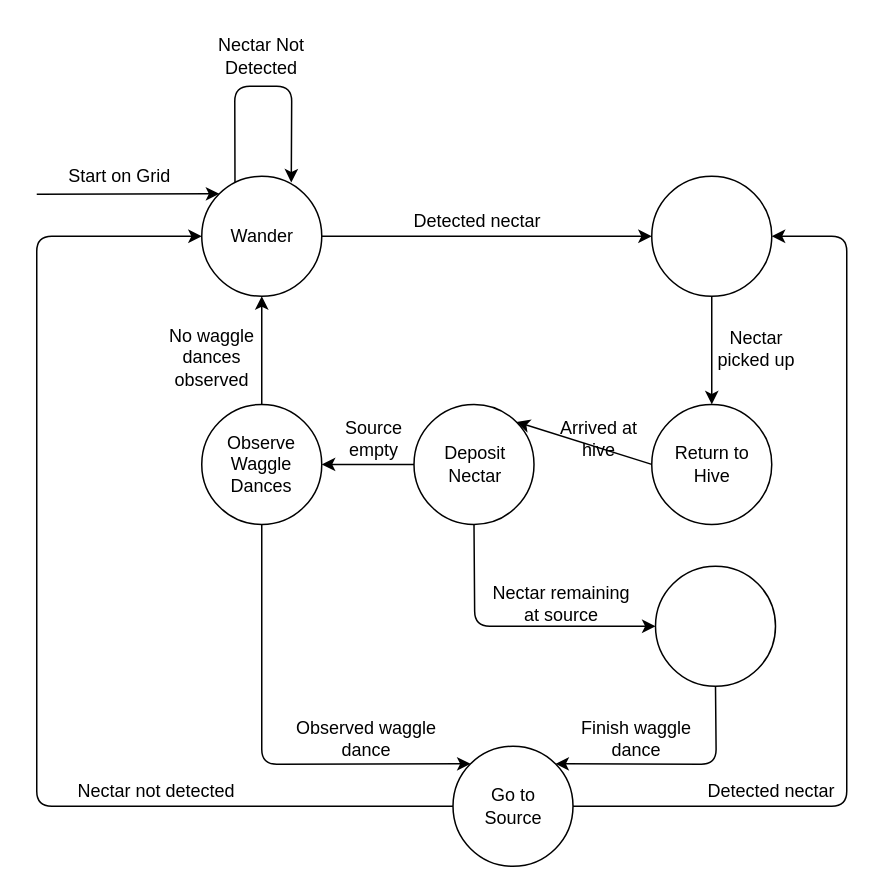
Image size: 885x893. Some labels were removed from this diagram. The centre of each missing label's shape, as x and y in pixels:
Pick up Nectar: the point at 711,235
Waggle Dance: the point at 715,625
